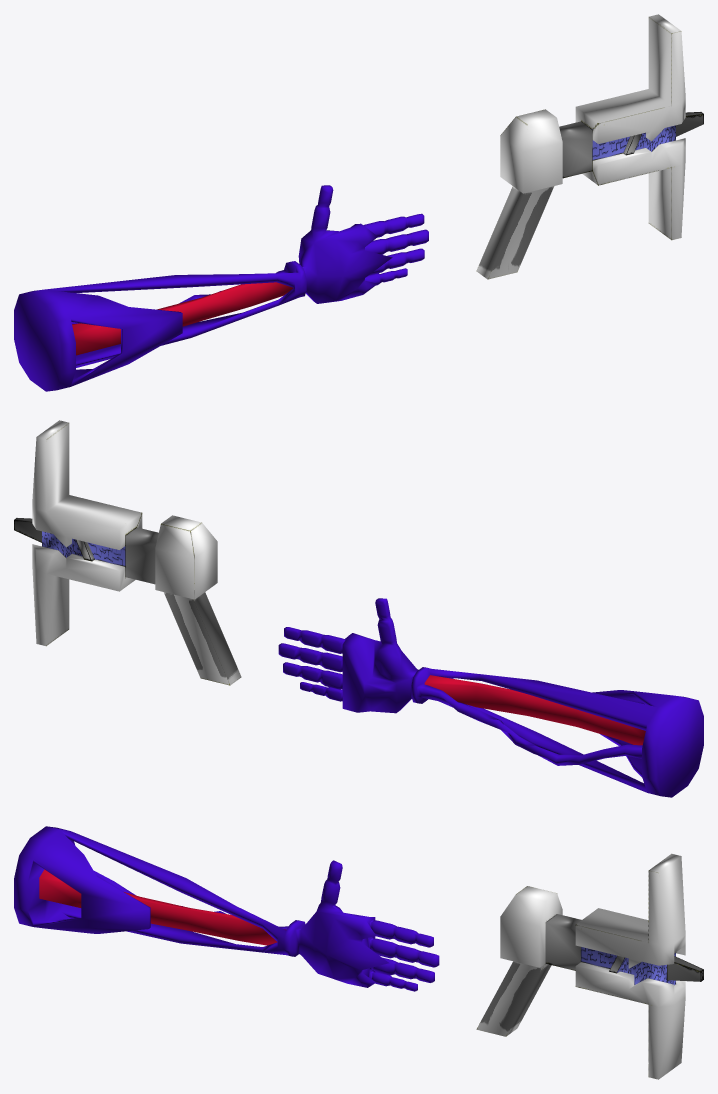
File: gun_1.fbx
3 renders of one model, top to bottom at view 1: azimuth 30°, elevation 25°; view 2: azimuth 150°, elevation 25°; view 3: azimuth 330°, elevation 25°, orthographic.
Visible parts, largest first — view 1: RArm, Gun; view 2: RArm, Gun; view 3: RArm, Gun.
Part boxes in pixels (x1,y1,x2,y2): RArm: (14,185,428,391); Gun: (476,14,703,279); RArm: (278,598,703,797); Gun: (14,420,241,685); RArm: (14,826,439,991); Gun: (476,853,703,1079).
Size of the model in its own units: 6.71 by 2.02 by 0.84.
